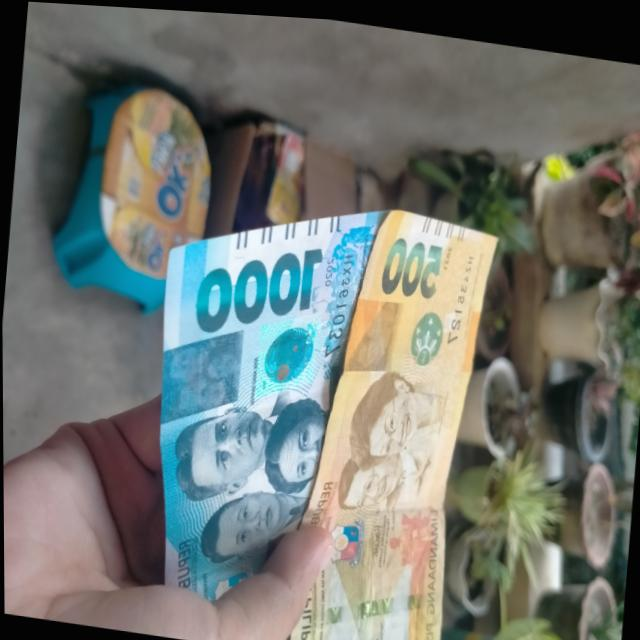concealed_value: (151, 317, 243, 437), (340, 285, 402, 375)
optically_variable_device: (245, 308, 333, 403), (392, 292, 456, 378)
security_thread: (293, 580, 441, 630)
value: (184, 219, 330, 344), (375, 220, 452, 308)
